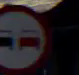No overtake: (1, 2, 51, 71)
